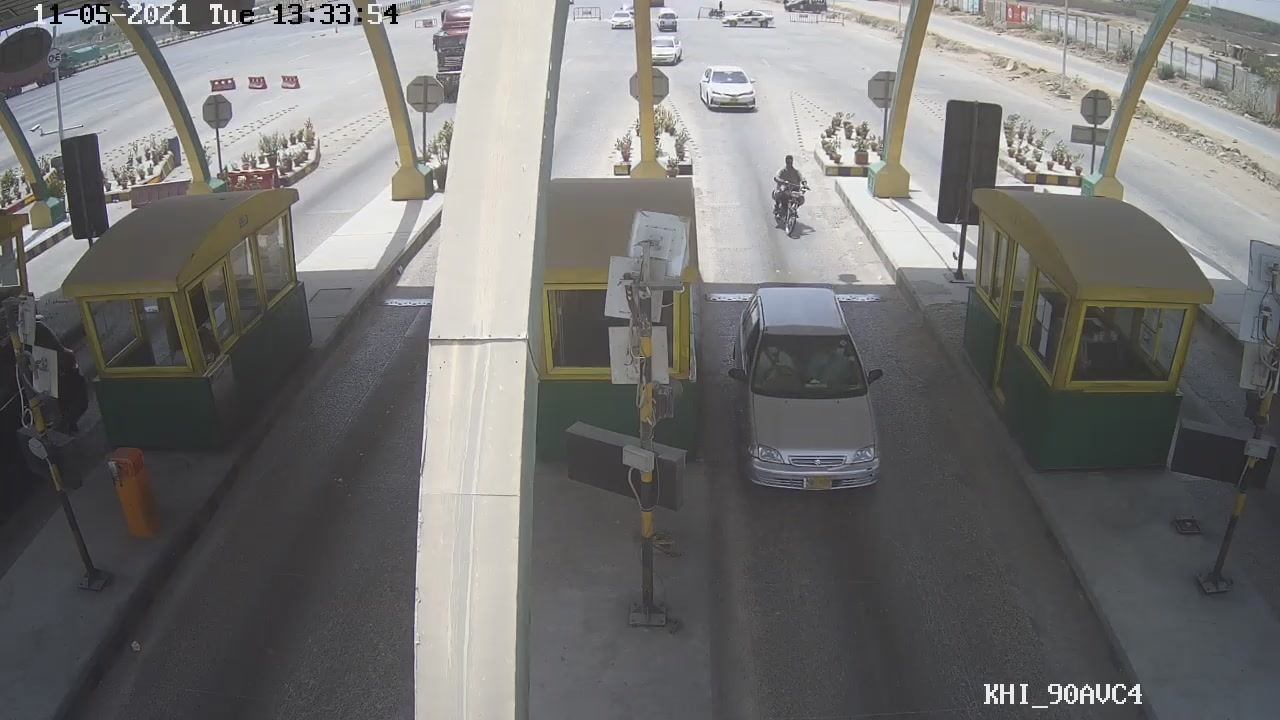F1: (727, 274, 894, 500)
